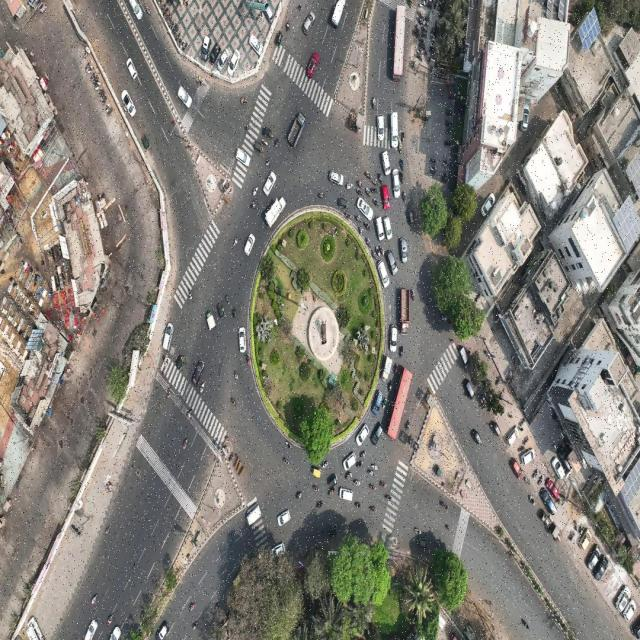3W: (462, 376, 474, 404), (214, 299, 225, 321), (470, 427, 482, 446), (174, 352, 186, 370), (250, 140, 264, 155), (326, 472, 339, 488), (326, 522, 338, 539), (416, 536, 430, 550), (140, 135, 152, 151), (274, 29, 283, 50), (308, 466, 322, 479), (490, 419, 500, 437), (262, 125, 274, 140), (337, 196, 349, 208)
Bus: (387, 364, 412, 450)
Cars: (539, 484, 557, 515), (615, 582, 631, 616), (119, 87, 136, 119), (354, 195, 374, 222), (480, 188, 496, 221), (233, 143, 252, 170), (377, 256, 390, 294), (354, 420, 371, 449), (191, 356, 205, 391), (177, 86, 195, 113), (593, 552, 609, 582), (550, 453, 566, 483), (226, 48, 241, 80), (162, 320, 175, 356), (520, 94, 531, 136), (370, 419, 384, 452), (622, 596, 637, 625), (262, 169, 277, 197), (127, 1, 146, 23), (544, 475, 560, 501), (588, 544, 602, 573), (304, 52, 318, 81), (385, 246, 398, 277), (248, 32, 264, 57), (199, 34, 211, 67), (389, 112, 399, 151), (206, 42, 222, 66), (302, 10, 315, 39), (327, 167, 344, 189), (342, 449, 358, 472), (216, 48, 230, 74), (125, 56, 138, 84), (519, 448, 538, 467), (153, 620, 171, 640), (276, 506, 294, 526), (266, 542, 288, 558), (237, 324, 247, 358), (509, 455, 522, 481), (373, 216, 386, 242), (242, 232, 255, 258), (506, 424, 520, 448), (379, 148, 391, 176), (371, 390, 383, 418), (579, 527, 592, 552), (84, 617, 98, 640), (379, 183, 390, 212), (389, 323, 399, 354), (376, 110, 386, 140), (383, 215, 394, 241), (398, 235, 408, 263), (339, 484, 354, 502), (458, 345, 469, 368), (393, 164, 400, 200), (108, 624, 121, 639)
LCV: (263, 192, 288, 230), (244, 504, 264, 528), (381, 354, 392, 383), (205, 309, 216, 334)
M2W: (368, 503, 378, 515), (440, 499, 450, 511), (521, 434, 529, 448), (250, 197, 257, 212), (284, 438, 292, 451), (106, 613, 114, 626), (398, 138, 404, 155), (326, 487, 336, 497), (528, 493, 535, 507), (233, 369, 240, 383), (231, 308, 238, 322), (312, 482, 320, 494), (315, 498, 323, 510), (401, 188, 407, 204), (91, 594, 98, 607), (360, 449, 367, 462), (265, 155, 272, 168), (412, 526, 422, 535), (167, 385, 173, 400), (189, 602, 196, 614), (356, 460, 363, 472), (533, 468, 539, 482), (537, 474, 543, 488), (199, 382, 205, 396), (252, 186, 259, 198), (274, 137, 281, 149), (376, 170, 383, 182), (379, 479, 388, 488), (344, 212, 353, 221), (322, 460, 330, 470), (393, 361, 398, 377), (243, 122, 251, 132), (244, 353, 250, 366), (182, 438, 188, 451), (296, 489, 303, 500), (369, 482, 376, 493), (399, 170, 404, 185), (192, 620, 198, 632), (354, 500, 362, 509), (353, 478, 361, 487), (444, 522, 450, 534), (524, 475, 530, 487), (187, 289, 193, 301), (233, 235, 239, 247), (354, 214, 362, 223), (371, 249, 377, 261), (370, 185, 378, 194), (282, 456, 289, 466), (345, 471, 352, 481), (231, 398, 238, 408), (365, 170, 372, 180), (364, 221, 371, 231), (405, 419, 410, 432), (187, 407, 192, 420), (384, 492, 391, 501), (239, 98, 248, 105), (261, 138, 268, 147), (445, 118, 452, 127), (512, 354, 517, 366), (399, 161, 405, 171), (359, 227, 365, 237), (375, 247, 381, 257), (379, 245, 385, 255), (370, 464, 378, 471), (106, 523, 110, 537), (346, 182, 353, 190), (355, 188, 363, 195), (372, 96, 376, 110), (445, 108, 453, 115), (428, 168, 435, 176), (368, 467, 373, 478), (225, 293, 230, 304), (365, 186, 370, 197), (439, 176, 448, 182), (383, 396, 387, 409), (399, 346, 403, 359), (373, 196, 378, 206), (356, 180, 363, 187), (388, 382, 392, 394), (318, 193, 326, 199), (448, 92, 454, 100), (443, 159, 449, 166), (441, 171, 448, 177), (430, 158, 436, 165), (367, 237, 370, 249), (412, 289, 415, 301), (444, 140, 450, 146), (373, 178, 377, 186)
Truck: (288, 111, 305, 152), (399, 286, 412, 338)
